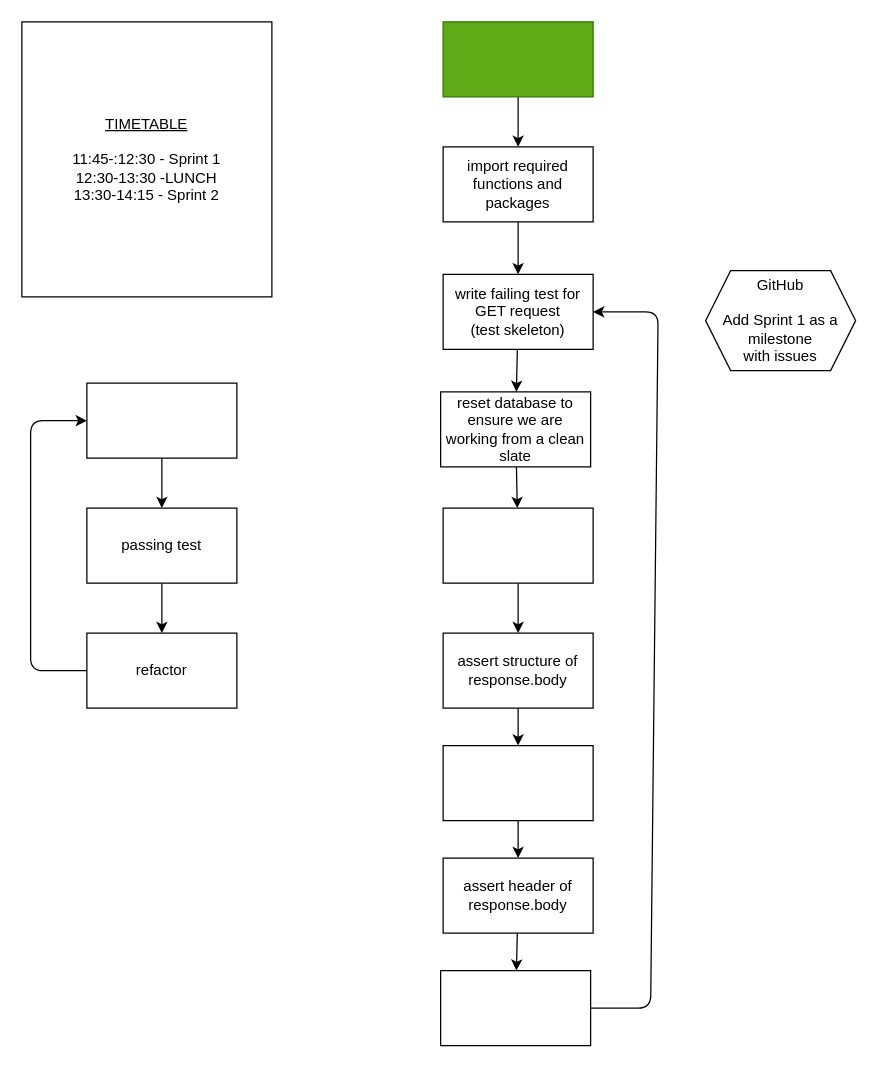
This 878x1068 diagram has some shape labels left out. The shapes that lost their labels are listed below. From the top down, each one's box as (x1, y1, x2, y2) in pixels, then its label:
(442, 21, 593, 97): SPRINT 1 (1)Get and (3)Delete
(86, 382, 237, 458): failing test
(442, 507, 593, 583): define endpoint and request type we are testing
(442, 744, 593, 821): assert status code of response.body
(439, 969, 591, 1046): repeat for DELETE call
